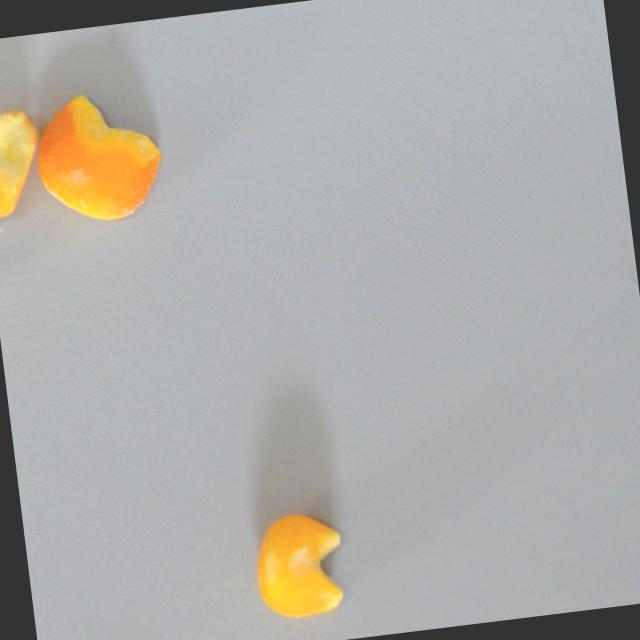pelicula: (30, 82, 168, 226), (247, 507, 350, 622), (0, 103, 44, 215)
